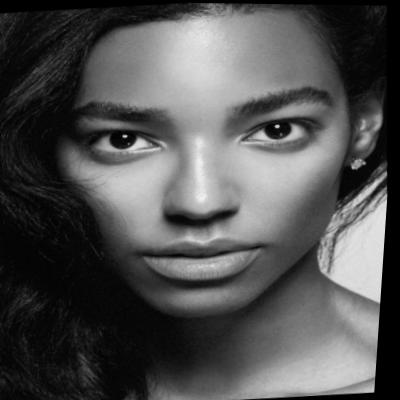netural: (41, 8, 370, 330)
